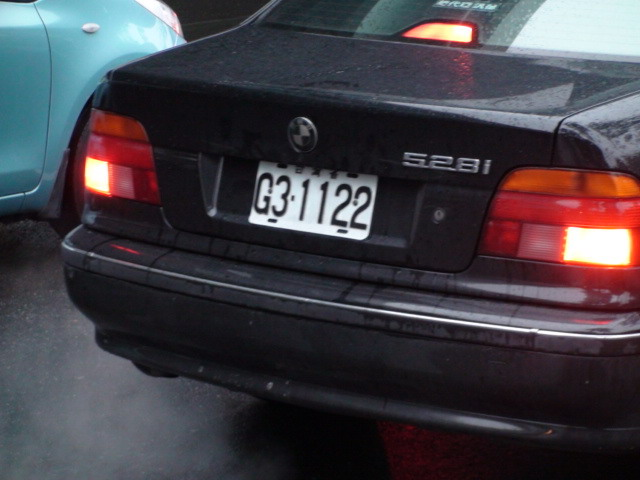plate: (248, 156, 382, 244)
